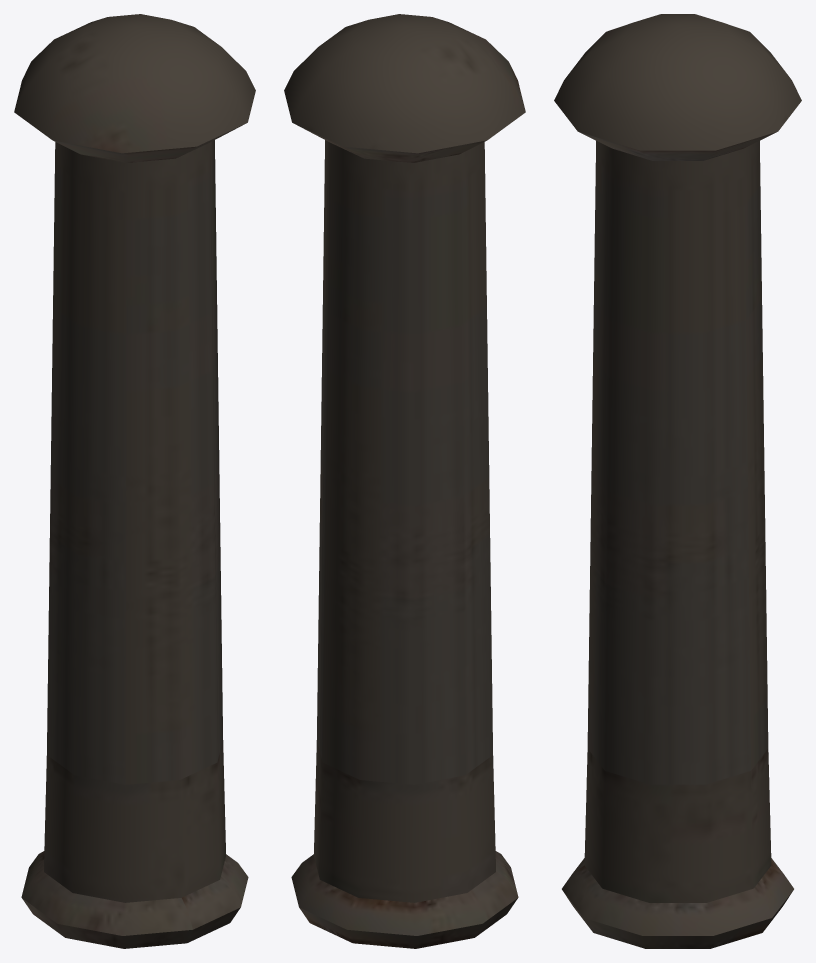
File: Prop_Bollard.glb
3 views of the same model, side by side, from view 1: azimuth 30°, elevation 25°; view 2: azimuth 150°, elevation 25°; view 3: azimuth 270°, elevation 25° (orthographic).
Parts seen in each view (by area): view 1: Prop_Bollard; view 2: Prop_Bollard; view 3: Prop_Bollard.
Boxes of the visible parts, x1=… form: Prop_Bollard: x1=14, y1=14, x2=255, y2=948; Prop_Bollard: x1=284, y1=14, x2=525, y2=948; Prop_Bollard: x1=554, y1=14, x2=801, y2=948.
Bounding box in the file's own units: 0.2163 × 0.8918 × 0.2274.
Materials: 1 (1 with a texture image).
